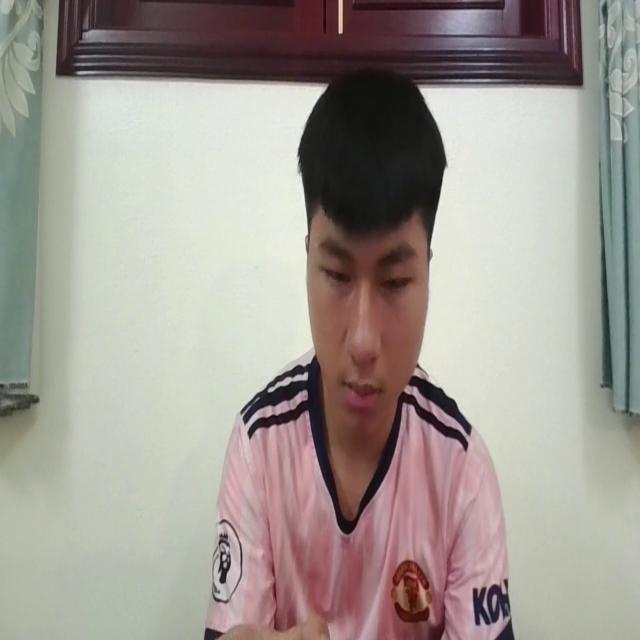student: (202, 61, 514, 640)
